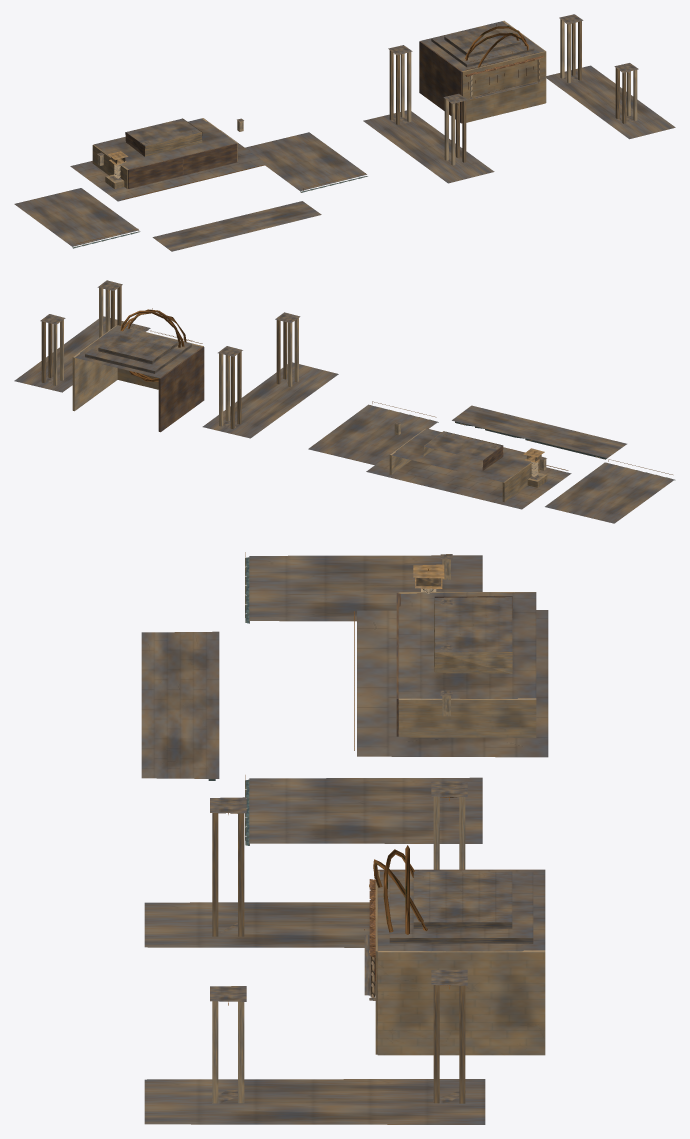
File: kairou-v10.1-upper-lod2.raw.glb
The picture shows the model from 3 angles, top to bottom: view 1: azimuth 30°, elevation 25°; view 2: azimuth 150°, elevation 25°; view 3: azimuth 270°, elevation 25°; orthographic projection. The views are drawn at different scales.
Parts seen in each view (by area): view 1: SM_Kairou_V10_1_WindcrownObservatory_Upper_LOD2_Dielectric, SM_Kairou_V10_1_MeridianSanctuary_Upper_LOD2_Dielectric, SM_Kairou_V10_1_WindcrownObservatory_Upper_LOD2_Metal; view 2: SM_Kairou_V10_1_MeridianSanctuary_Upper_LOD2_Dielectric, SM_Kairou_V10_1_WindcrownObservatory_Upper_LOD2_Dielectric, SM_Kairou_V10_1_WindcrownObservatory_Upper_LOD2_Metal; view 3: SM_Kairou_V10_1_MeridianSanctuary_Upper_LOD2_Dielectric, SM_Kairou_V10_1_WindcrownObservatory_Upper_LOD2_Dielectric, SM_Kairou_V10_1_WindcrownObservatory_Upper_LOD2_Metal.
Part boxes in pixels (box(x1,y1,x2,y2)): SM_Kairou_V10_1_WindcrownObservatory_Upper_LOD2_Dielectric: box(363, 14, 675, 183); SM_Kairou_V10_1_MeridianSanctuary_Upper_LOD2_Dielectric: box(14, 118, 367, 251); SM_Kairou_V10_1_WindcrownObservatory_Upper_LOD2_Metal: box(394, 24, 629, 104); SM_Kairou_V10_1_MeridianSanctuary_Upper_LOD2_Dielectric: box(308, 404, 675, 523); SM_Kairou_V10_1_WindcrownObservatory_Upper_LOD2_Dielectric: box(14, 280, 338, 438); SM_Kairou_V10_1_WindcrownObservatory_Upper_LOD2_Metal: box(51, 290, 285, 381); SM_Kairou_V10_1_MeridianSanctuary_Upper_LOD2_Dielectric: box(141, 554, 548, 845); SM_Kairou_V10_1_WindcrownObservatory_Upper_LOD2_Dielectric: box(144, 781, 545, 1124); SM_Kairou_V10_1_WindcrownObservatory_Upper_LOD2_Metal: box(218, 797, 456, 1005).
Bounding box in the file's own units: 223 × 31.86 × 68.
2 materials, 2 textured.
